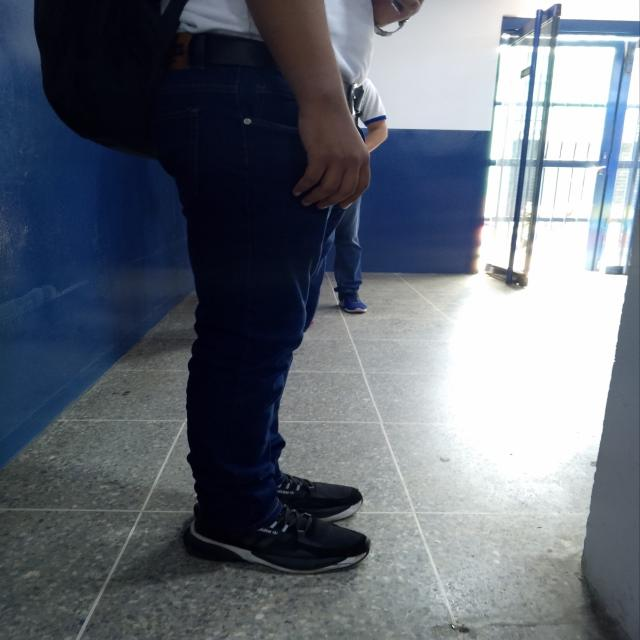pantalon_oscuro: (158, 59, 328, 534), (298, 158, 364, 308)
